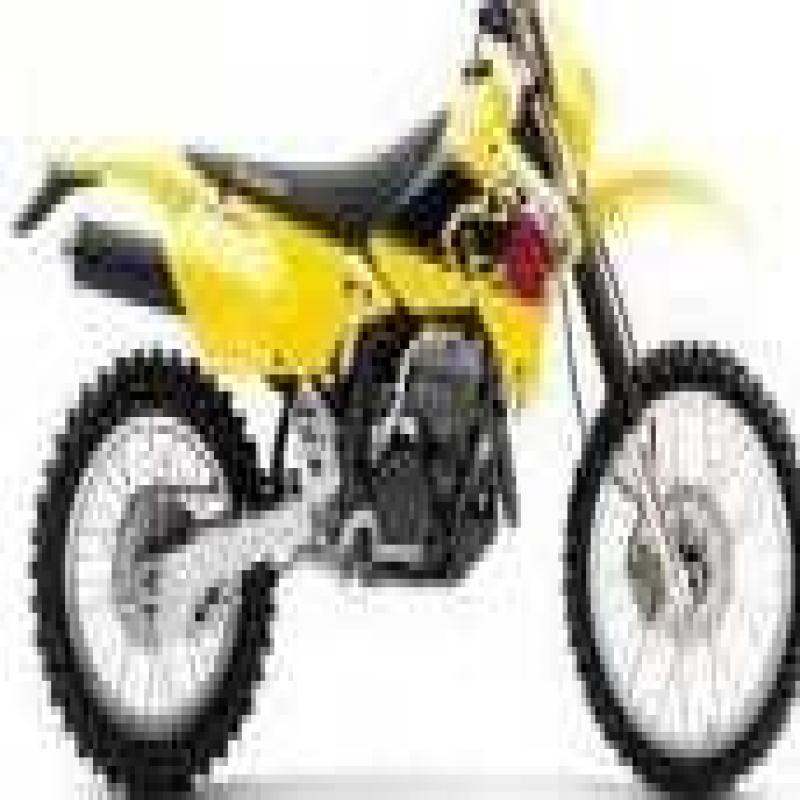bike: (33, 0, 792, 800)
